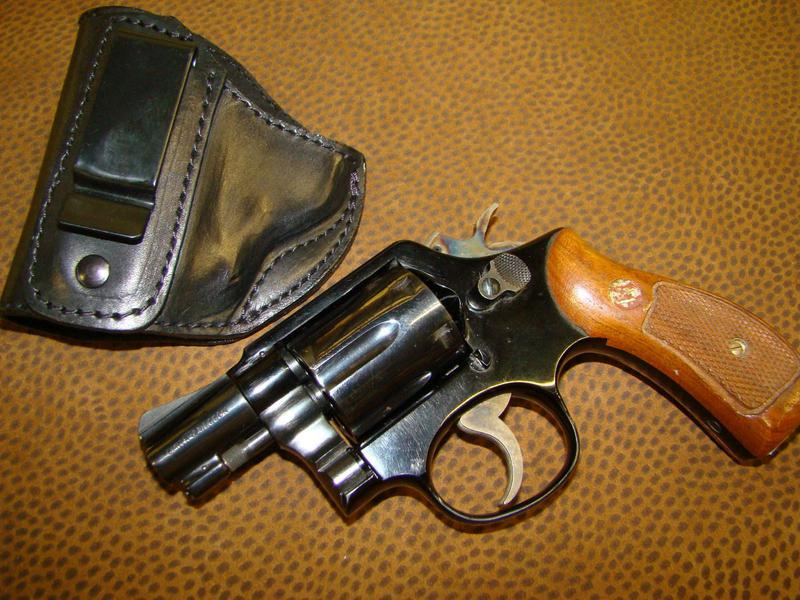Revolver: (128, 200, 794, 551)
